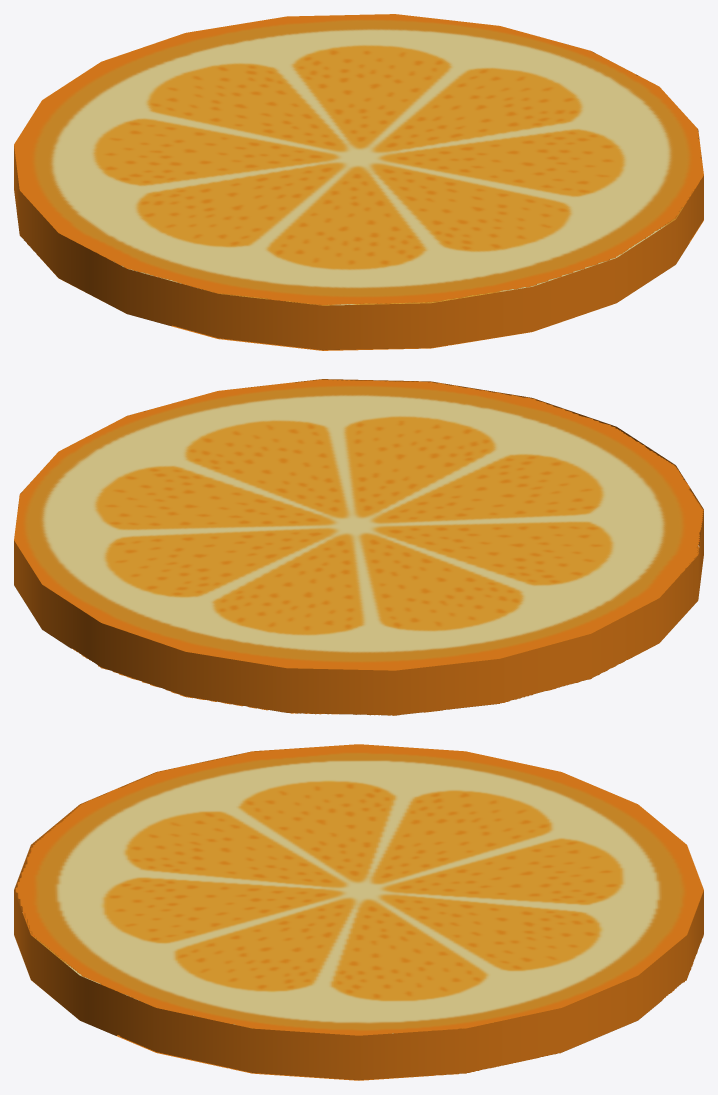
The model's file is orange 2.fbx.
The picture shows the model from 3 angles, top to bottom: view 1: azimuth 30°, elevation 25°; view 2: azimuth 150°, elevation 25°; view 3: azimuth 270°, elevation 25°; orthographic projection.
Visible parts, largest first — view 1: fruit; view 2: fruit; view 3: fruit.
Boxes of the visible parts, box(x1,y1,x2,y2) form: fruit: box(14, 14, 703, 350); fruit: box(14, 379, 703, 715); fruit: box(14, 744, 703, 1080).
Size of the model in its own units: 79.96 by 5.76 by 79.96.
1 material, 1 textured.
